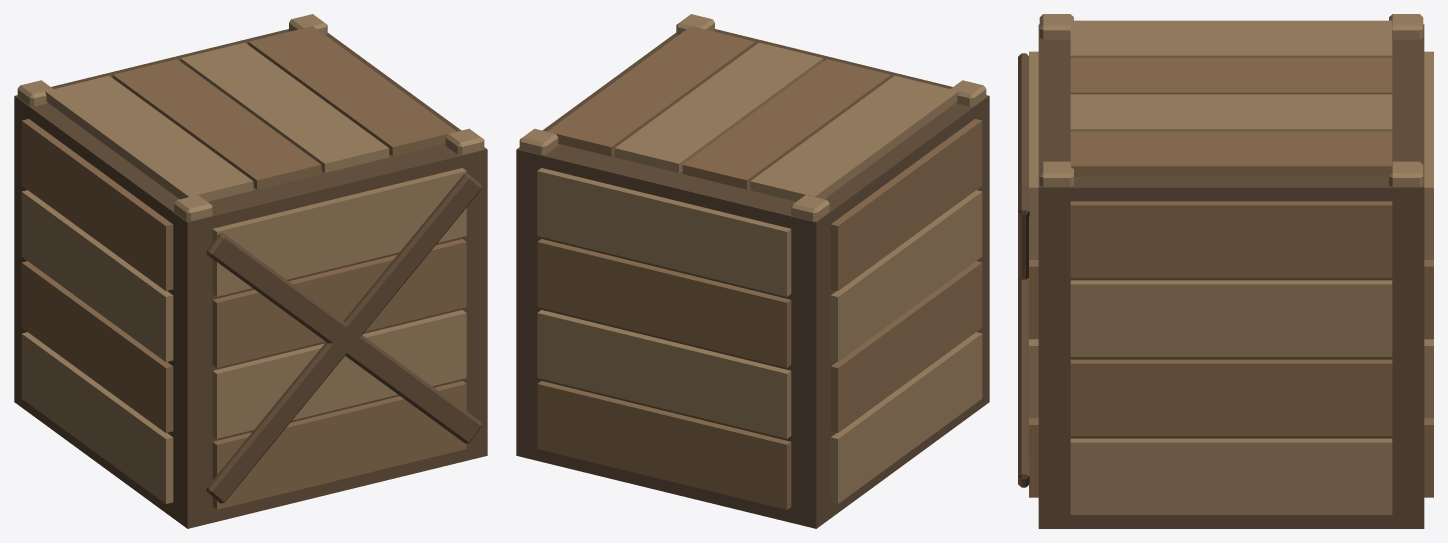
Rendered from wood_crate_closed.glb.
3 views of the same model, side by side, from view 1: azimuth 30°, elevation 25°; view 2: azimuth 150°, elevation 25°; view 3: azimuth 270°, elevation 25° (orthographic). The views are drawn at different scales.
Parts seen in each view (by area): view 1: wood_crate_closed; view 2: wood_crate_closed; view 3: wood_crate_closed.
Part boxes in pixels (x1,y1,x2,y2): wood_crate_closed: (14,14,487,528); wood_crate_closed: (516,14,989,528); wood_crate_closed: (1018,14,1433,528).
Bounding box in the file's own units: 0.881 × 0.85 × 0.905.
